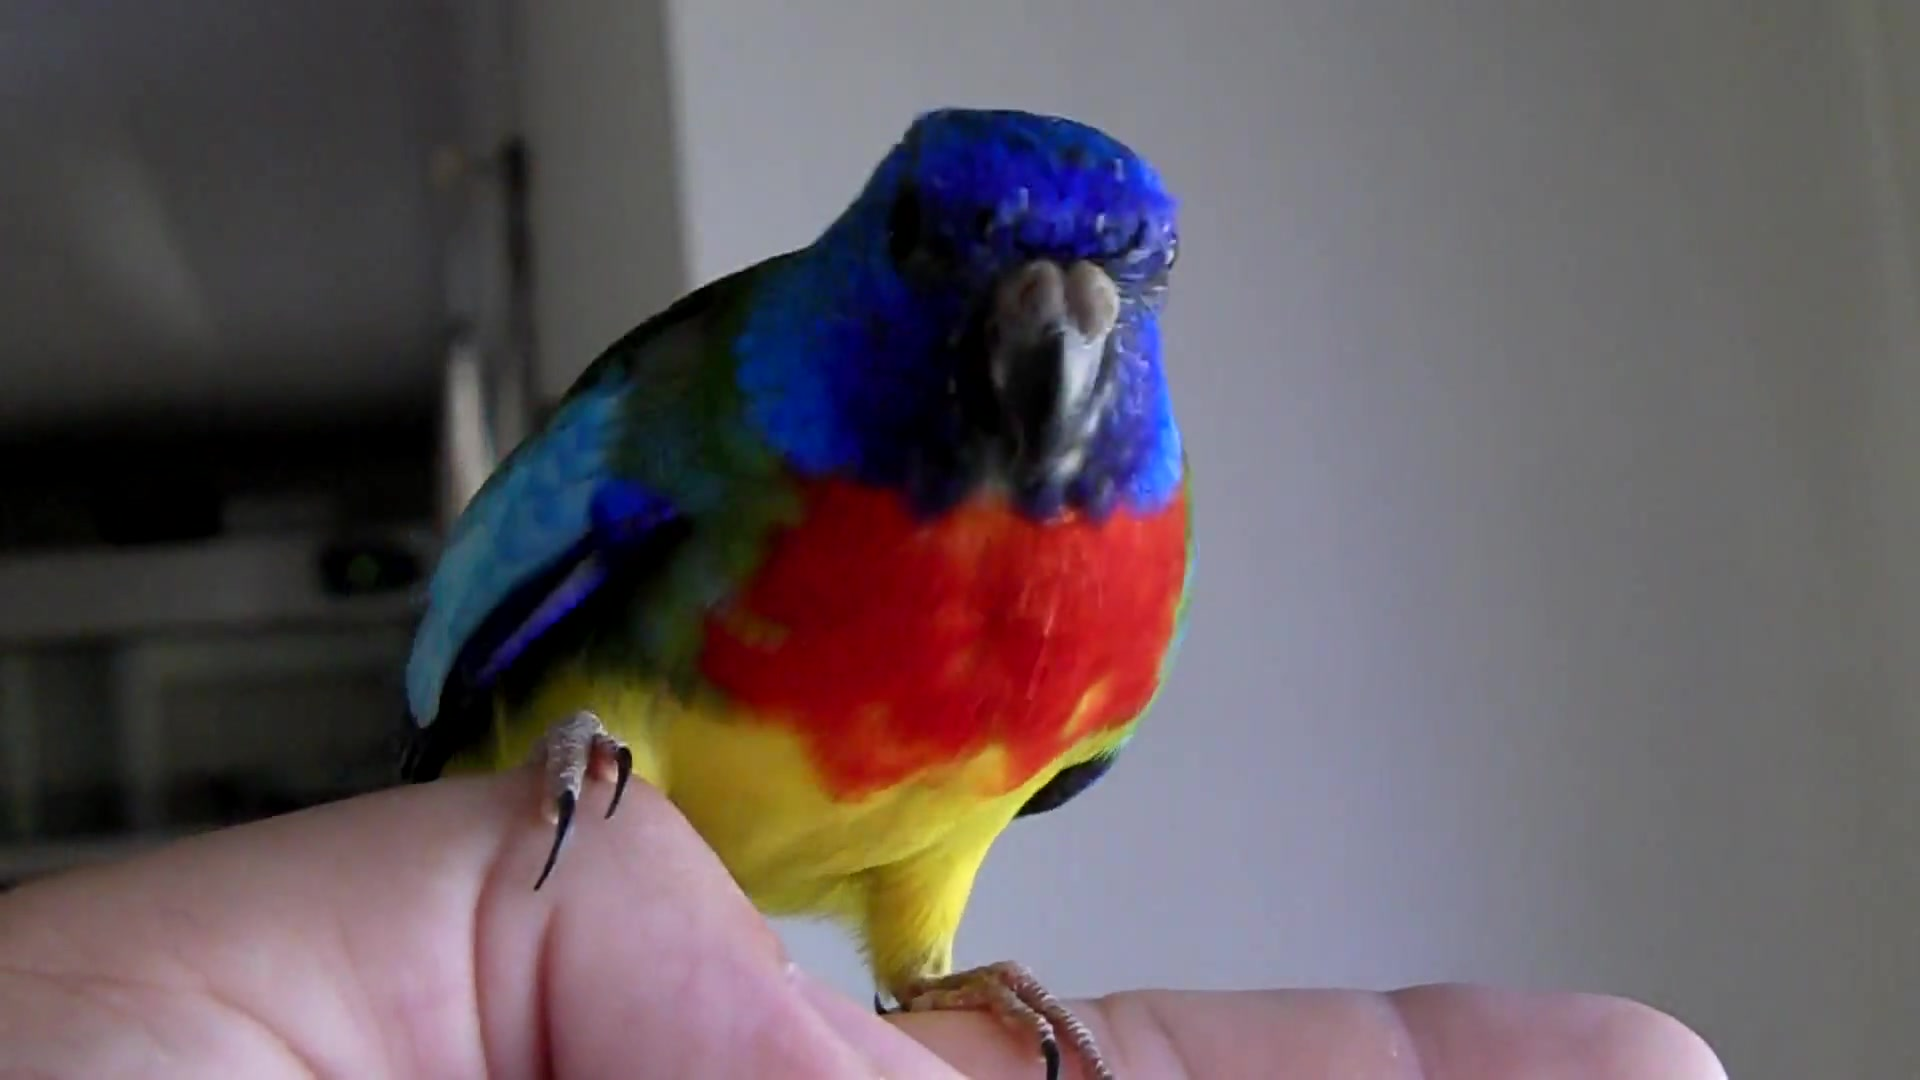bird: (396, 105, 1203, 1080)
